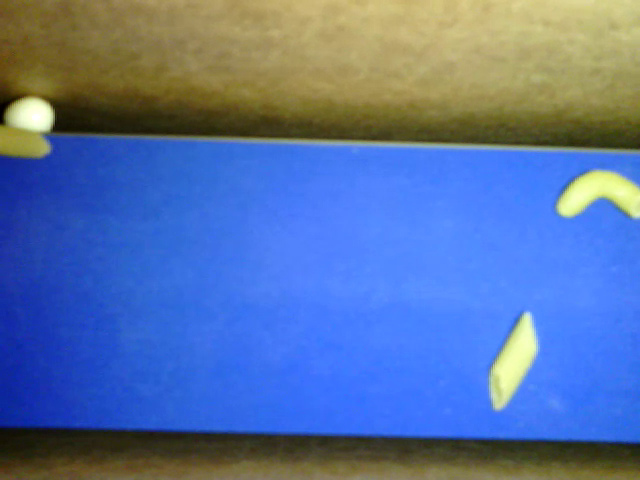elbow: (555, 168, 639, 219)
penne: (488, 309, 540, 412), (1, 126, 52, 159)
